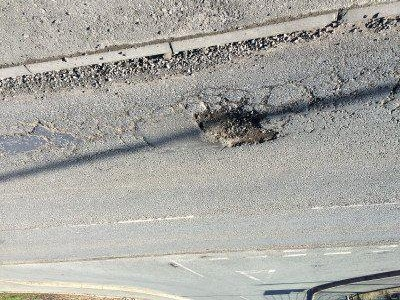pothole: (189, 98, 283, 149)
